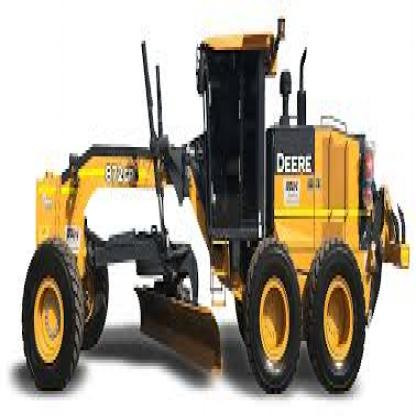bull_dozer/loader/grader: (16, 28, 408, 413)
